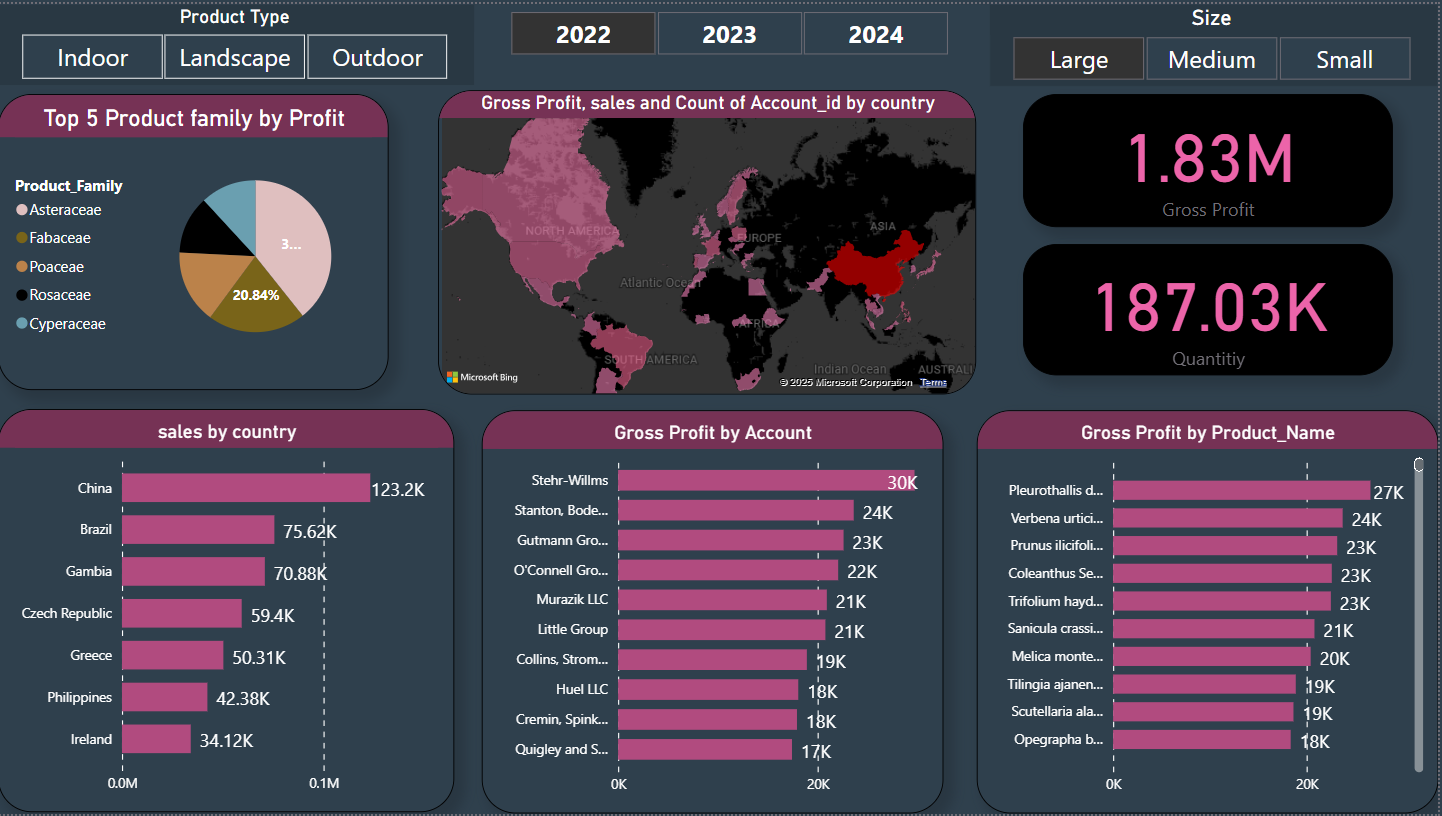

The dashboard page shown, as its layout file describes it:
{"tool":"powerbi","page":{"name":"Page 2","canvas":[1280,720],"ordinal":1},"visuals":[{"type":"slicer","fields":{"Values":["Dim_Date.Date.Variation.Date Hierarchy.Year"]},"box":[435.7,0,432.9,48.6],"z":0},{"type":"filledMap","fields":{"Category":["Dim_Account.country"]},"box":[391.4,77.1,478.6,270],"z":1000},{"type":"barChart","fields":{"Category":["Dim_Account.Account"],"Y":["_Measures.Gross Profit"]},"box":[430,361.4,410,358.6],"z":2000},{"type":"barChart","fields":{"Y":["_Measures.Gross Profit"],"Category":["Dim_Product.Product_Name"]},"box":[870,361.4,410,358.6],"z":3000},{"type":"slicer","title":"Size","fields":{"Values":["Dim_Product.Product_Size"]},"box":[881.4,0,398.6,72.9],"z":4000},{"type":"card","fields":{"Values":["_Measures.Gross Profit"]},"box":[911.4,80,328.6,118.6],"z":5000},{"type":"slicer","title":"Product Type","fields":{"Values":["Dim_Product.Produt_Type"]},"box":[0,0,424.3,72.9],"z":6000},{"type":"pieChart","title":"Top 5 Product family by Profit","fields":{"Category":["Dim_Product.Product_Family"],"Y":["_Measures.Gross Profit"]},"box":[0,80,347.1,262.9],"z":7000},{"type":"barChart","fields":{"Y":["_Measures.sales"],"Category":["Dim_Account.country"]},"box":[0,360,405.7,358.6],"z":7001},{"type":"card","fields":{"Values":["_Measures.Quantitiy"]},"box":[911.4,212.9,328.6,117.1],"z":7002}]}

Visuals, with their boxes in screenshot pixels (x1, y1, x2, y2), scaled from the page's 1280x720 canvas onto the 1442x816 screenshot:
slicer - Dim_Date.Date.Variation.Date Hierarchy.Year: 491,0,979,55
filledMap - Dim_Account.country: 441,87,980,393
barChart - Dim_Account.Account x _Measures.Gross Profit: 484,410,946,815
barChart - _Measures.Gross Profit x Dim_Product.Product_Name: 980,410,1441,815
"Size" slicer: 993,0,1441,83
card - _Measures.Gross Profit: 1027,91,1397,225
"Product Type" slicer: 0,0,478,83
"Top 5 Product family by Profit" pieChart: 0,91,391,389
barChart - _Measures.sales x Dim_Account.country: 0,408,457,814
card - _Measures.Quantitiy: 1027,241,1397,374
